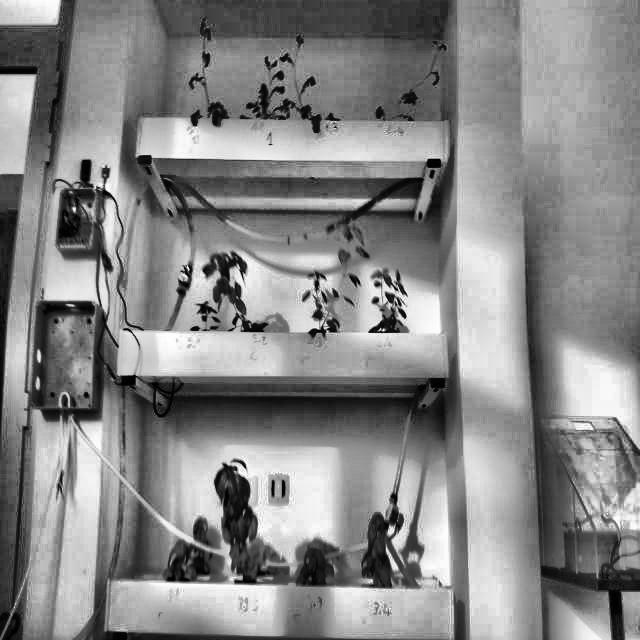plants: (215, 454, 265, 582), (376, 38, 450, 122), (206, 247, 268, 334), (182, 19, 232, 124), (320, 219, 364, 334), (284, 34, 336, 124), (238, 54, 289, 124), (370, 268, 410, 338), (300, 272, 338, 336), (367, 512, 392, 591), (300, 538, 340, 586), (190, 516, 216, 572), (187, 298, 224, 336), (166, 540, 190, 582)
